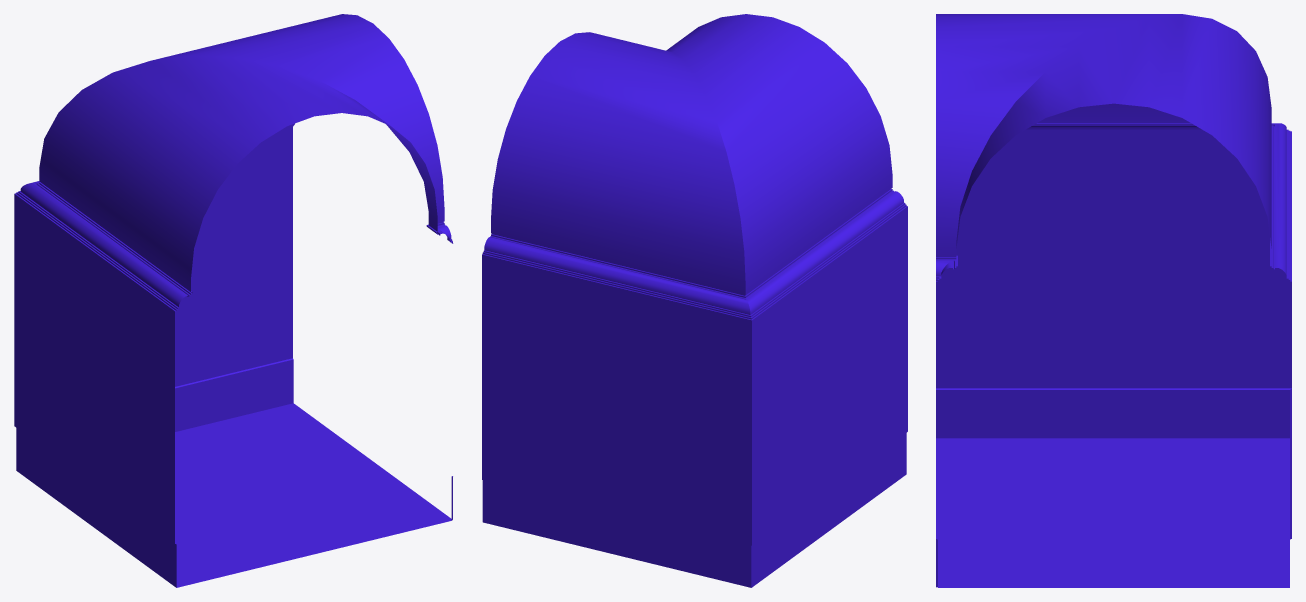
The model's file is Corridor_Angle.fbx.
The picture shows the model from 3 angles, left to right: view 1: azimuth 30°, elevation 25°; view 2: azimuth 150°, elevation 25°; view 3: azimuth 270°, elevation 25°; orthographic projection. The views are drawn at different scales.
Visible parts, largest first — view 1: Couloir 3; view 2: Couloir 3; view 3: Couloir 3.
Part boxes in pixels (x1,y1,x2,y2): Couloir 3: [14, 14, 453, 587]; Couloir 3: [482, 14, 907, 587]; Couloir 3: [936, 14, 1291, 587].
Bounding box in the file's own units: 800 × 1202 × 800.
